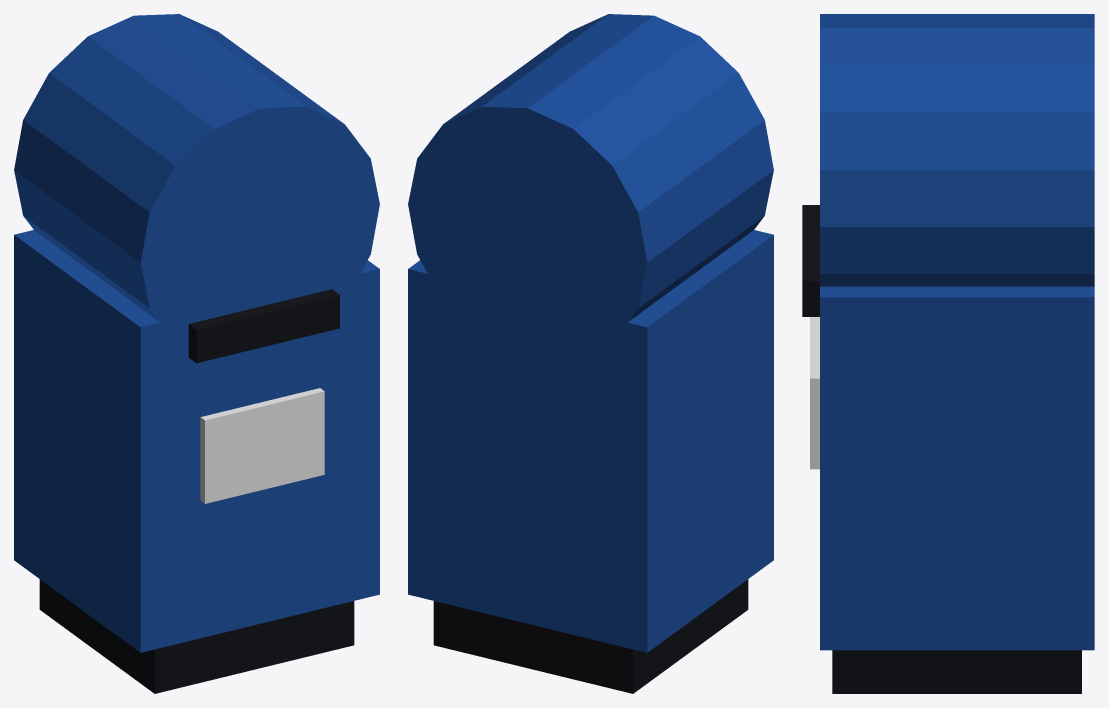
The model's file is mailbox.glb.
3 renders of one model, left to right at view 1: azimuth 30°, elevation 25°; view 2: azimuth 150°, elevation 25°; view 3: azimuth 270°, elevation 25°, orthographic. The views are drawn at different scales.
Parts seen in each view (by area): view 1: Cylinder; view 2: Cylinder; view 3: Cylinder.
Boxes of the visible parts, x1,y1,x2,y2 form: Cylinder: [14, 14, 379, 693]; Cylinder: [408, 14, 773, 693]; Cylinder: [802, 14, 1094, 693].
Size of the model in its own units: 0.6 by 1.36 by 0.5849.
